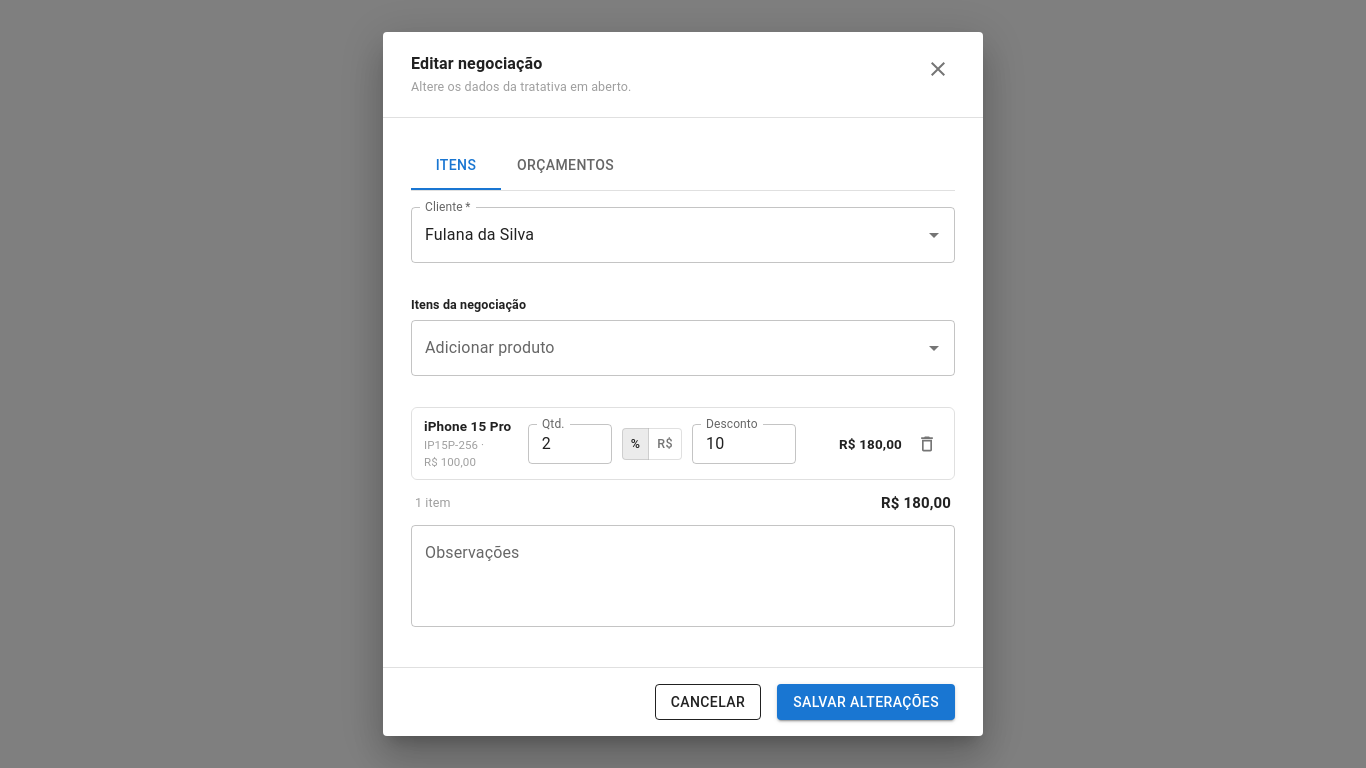
Scenario: NegotiationFormModal — alçada de desconto (RI6, ticket 09) › a recusa 403 do backend vira mensagem
Click the button "Salvar alterações".
click(866, 702)  # box [777,684,955,720]
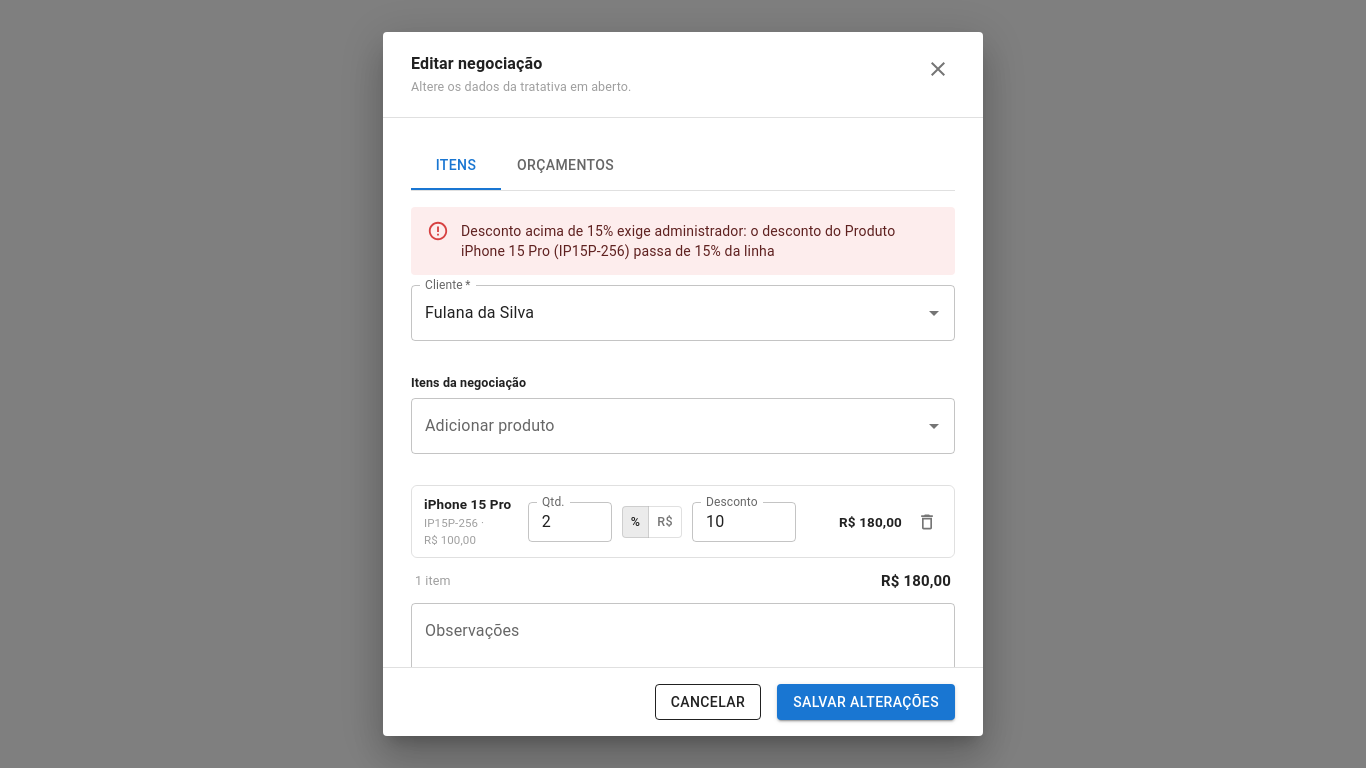
expect the message shows "Desconto acima de 15% exige administrador: o desconto do Produto iPhone 15 Pro (IP15P-256) passa de 15% da linha": met, box [461,223,895,259]
